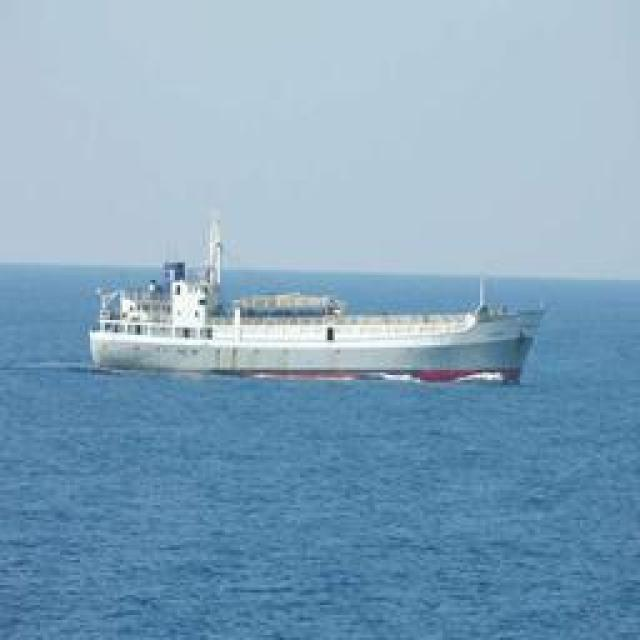CIV_Ship: (86, 219, 536, 377)
